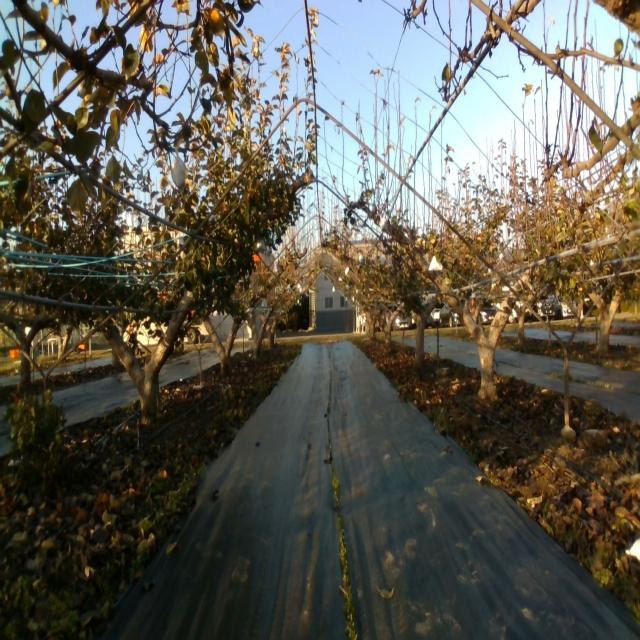pearbags: (171, 146, 186, 192)
